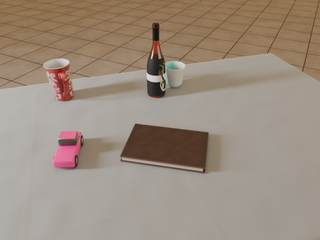book: (120, 124, 209, 173)
bottle: (147, 23, 166, 98)
cup: (43, 59, 74, 101), (165, 61, 185, 87)
toy_car: (53, 131, 83, 167)
